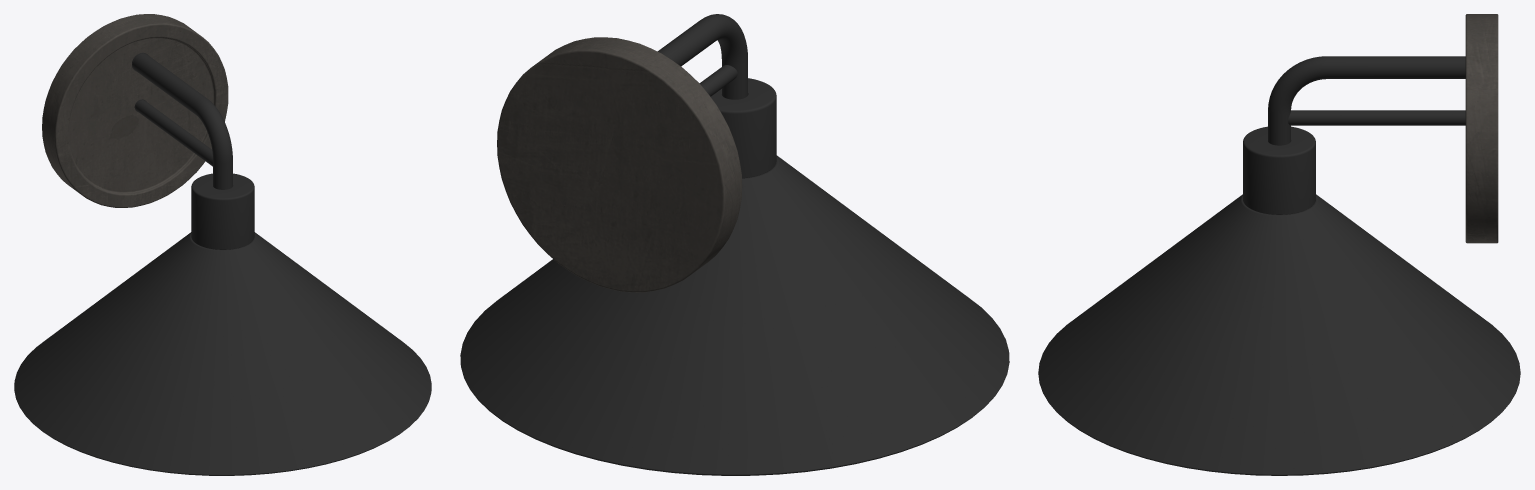
3 views of the same model, side by side, from view 1: azimuth 30°, elevation 25°; view 2: azimuth 150°, elevation 25°; view 3: azimuth 270°, elevation 25° (orthographic). The views are drawn at different scales.
Parts seen in each view (by area): view 1: AndreBlackWalSconceLight; view 2: AndreBlackWalSconceLight; view 3: AndreBlackWalSconceLight.
Part boxes in pixels (box(x1,y1,x2,y2)): AndreBlackWalSconceLight: box(14, 14, 431, 475); AndreBlackWalSconceLight: box(460, 14, 1009, 475); AndreBlackWalSconceLight: box(1038, 14, 1520, 475).
Bounding box in the file's own units: 0.3175 × 0.254 × 0.3175.
1 material, 1 textured.
